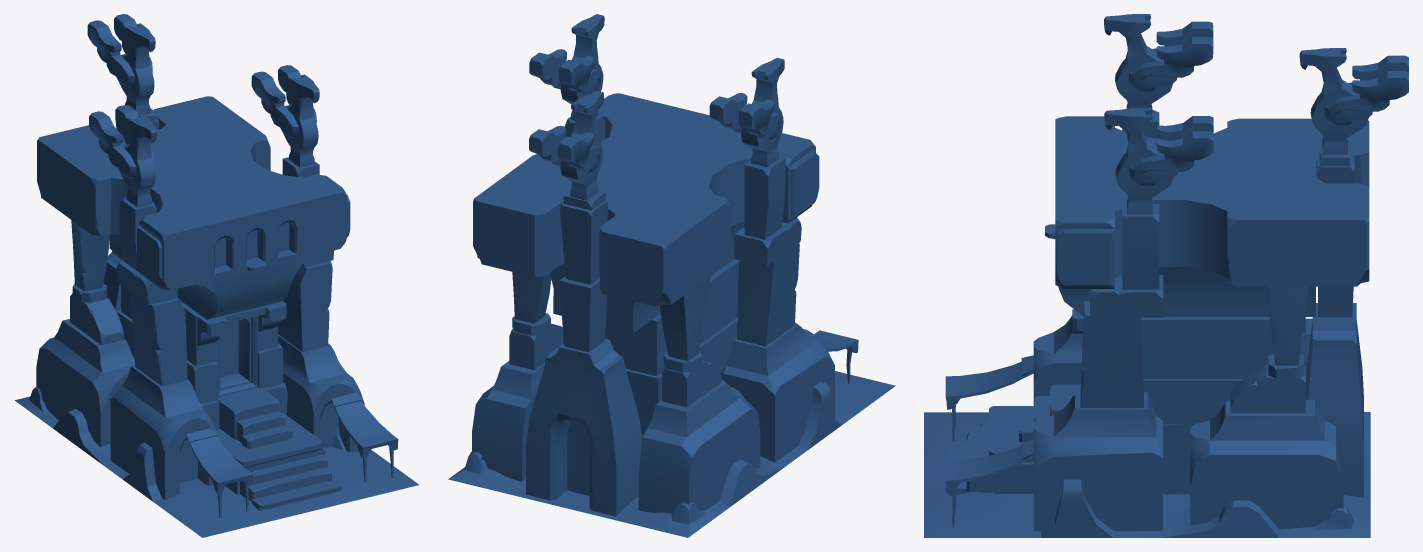
File: BUD_Building_E_01.FBX
3 renders of one model, left to right at view 1: azimuth 30°, elevation 25°; view 2: azimuth 150°, elevation 25°; view 3: azimuth 270°, elevation 25°, orthographic. The views are drawn at different scales.
Visible parts, largest first — view 1: BUD_Building_E_01; view 2: BUD_Building_E_01; view 3: BUD_Building_E_01.
Boxes of the visible parts, x1=… form: BUD_Building_E_01: x1=15, y1=14, x2=418, y2=537; BUD_Building_E_01: x1=448, y1=14, x2=895, y2=537; BUD_Building_E_01: x1=924, y1=14, x2=1408, y2=537.
Size of the model in its own units: 36 by 56.53 by 58.65.
